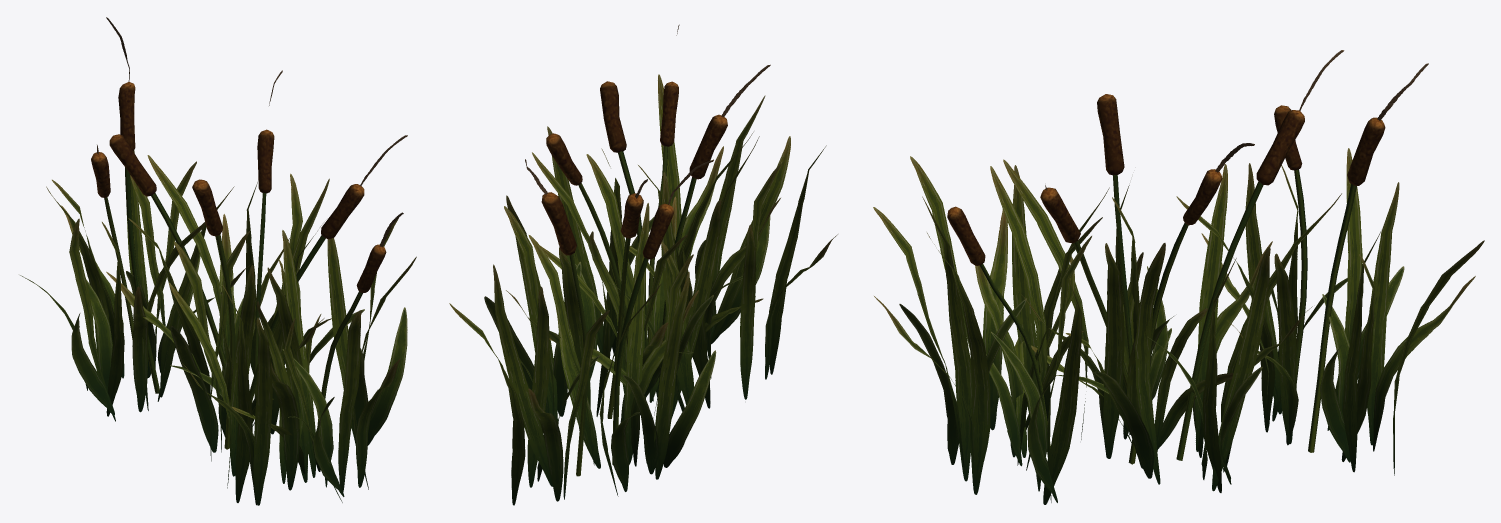
The model's file is Reeds_1.fbx.
3 renders of one model, left to right at view 1: azimuth 30°, elevation 25°; view 2: azimuth 150°, elevation 25°; view 3: azimuth 270°, elevation 25°, orthographic. The views are drawn at different scales.
Visible parts, largest first — view 1: Reeds_1; view 2: Reeds_1; view 3: Reeds_1.
Part boxes in pixels (left/top/right/bottom): Reeds_1: left=20, top=17, right=416, bottom=505; Reeds_1: left=449, top=24, right=837, bottom=505; Reeds_1: left=873, top=50, right=1484, bottom=504.
Size of the model in its own units: 2.28 by 3.04 by 4.14.
